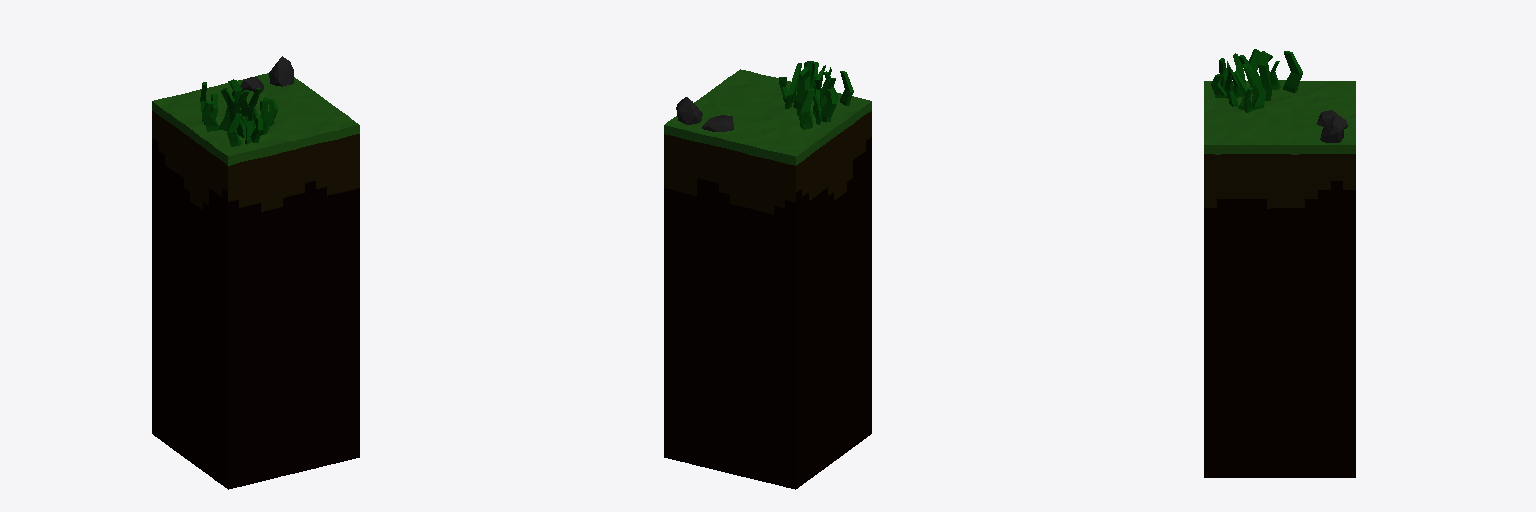
The model's file is grass4.obj.
3 renders of one model, left to right at view 1: azimuth 30°, elevation 25°; view 2: azimuth 150°, elevation 25°; view 3: azimuth 270°, elevation 25°, orthographic.
Parts seen in each view (by area): view 1: Cube.079, Cube.078, Icosphere.012; view 2: Cube.079, Cube.078; view 3: Cube.079, Cube.078.
Part boxes in pixels (left/top/right/bottom): Cube.079: left=152, top=73, right=359, bottom=489; Cube.078: left=200, top=79, right=277, bottom=146; Icosphere.012: left=269, top=56, right=293, bottom=86; Cube.079: left=664, top=69, right=871, bottom=489; Cube.078: left=779, top=61, right=853, bottom=129; Cube.079: left=1204, top=80, right=1355, bottom=477; Cube.078: left=1211, top=49, right=1302, bottom=112.
Bounding box in the file's own units: 19.41 × 53.48 × 19.41.